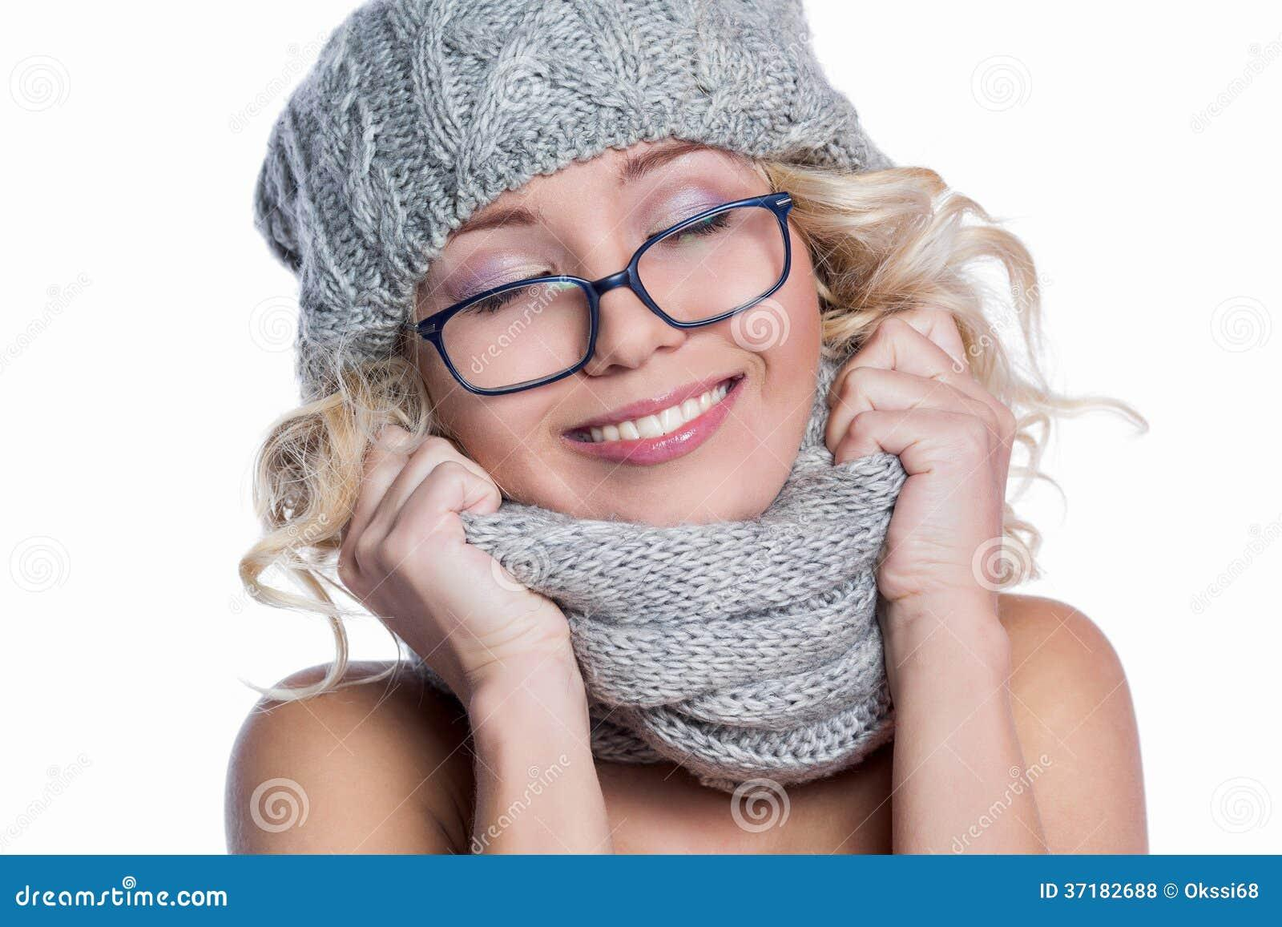cap: (248, 0, 916, 373)
scarf-kerchief: (441, 414, 948, 788)
sunglasses: (414, 168, 807, 414)
